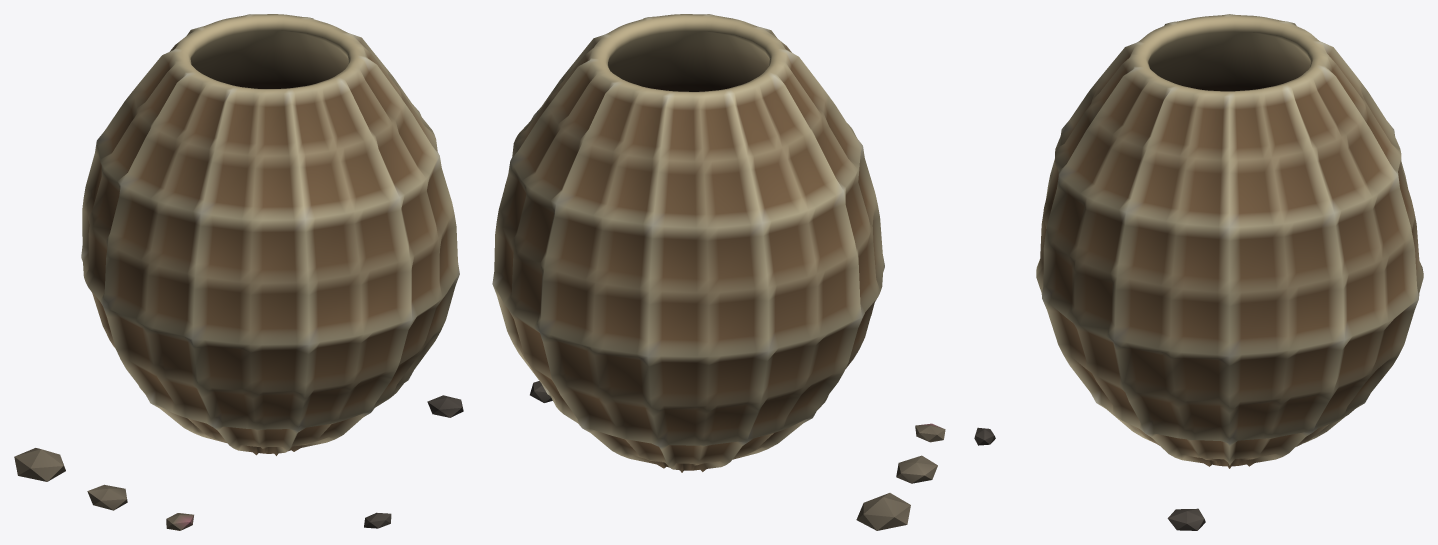
Rendered from ProtospongiaHicksi.fbx.
The picture shows the model from 3 angles, left to right: view 1: azimuth 30°, elevation 25°; view 2: azimuth 150°, elevation 25°; view 3: azimuth 270°, elevation 25°; orthographic projection. The views are drawn at different scales.
Parts seen in each view (by area): view 1: ProtospongiaHicksi; view 2: ProtospongiaHicksi; view 3: ProtospongiaHicksi.
Boxes of the visible parts, x1,y1,x2,y2 form: ProtospongiaHicksi: [14, 14, 463, 530]; ProtospongiaHicksi: [492, 14, 945, 530]; ProtospongiaHicksi: [974, 14, 1423, 530].
Bounding box in the file's own units: 1.2 × 1.12 × 1.13.
